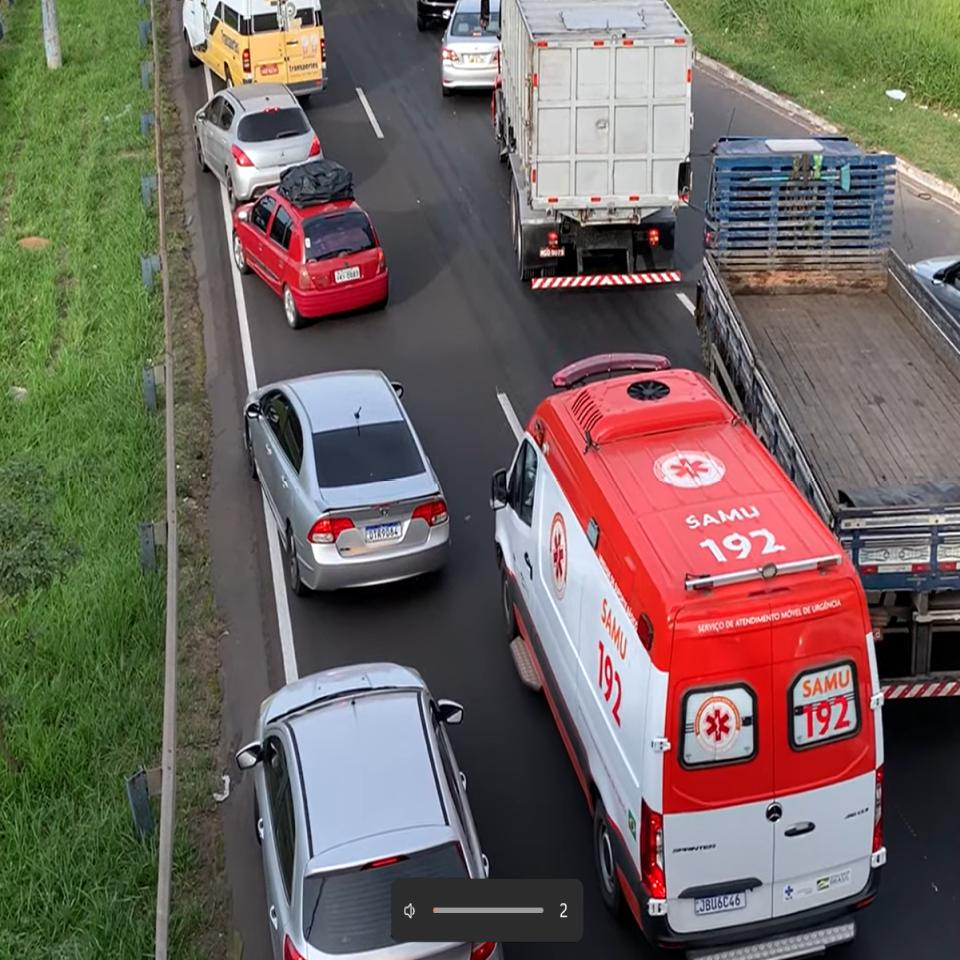bombeiro: (485, 348, 893, 960)
